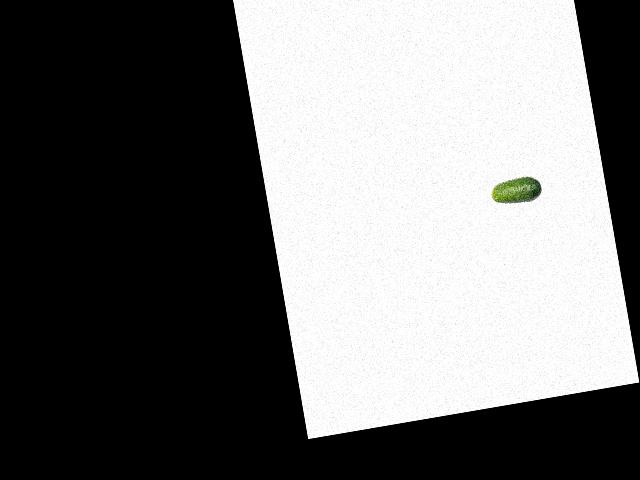cucumber: (489, 173, 543, 207)
